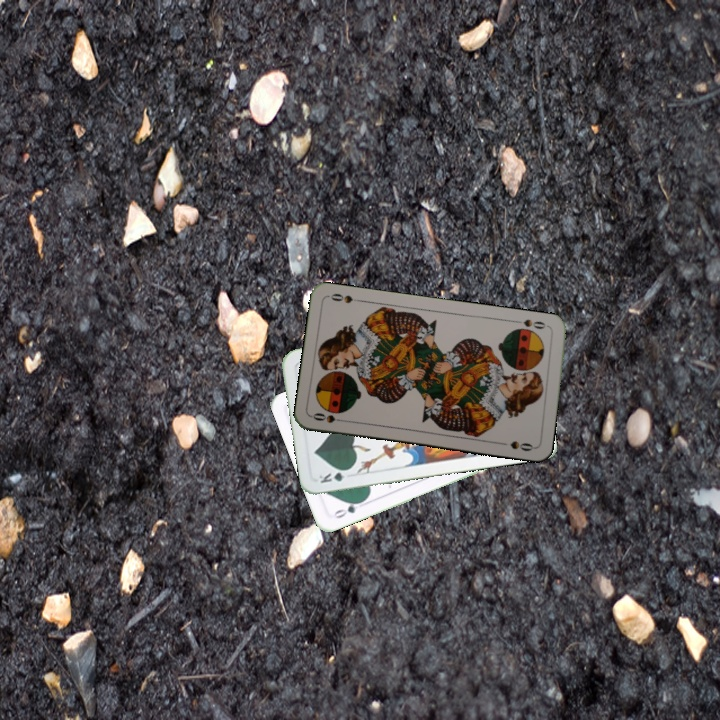GK: (315, 465, 353, 486)
GO: (328, 497, 366, 521)
SO: (309, 409, 349, 426), (512, 315, 552, 332)
